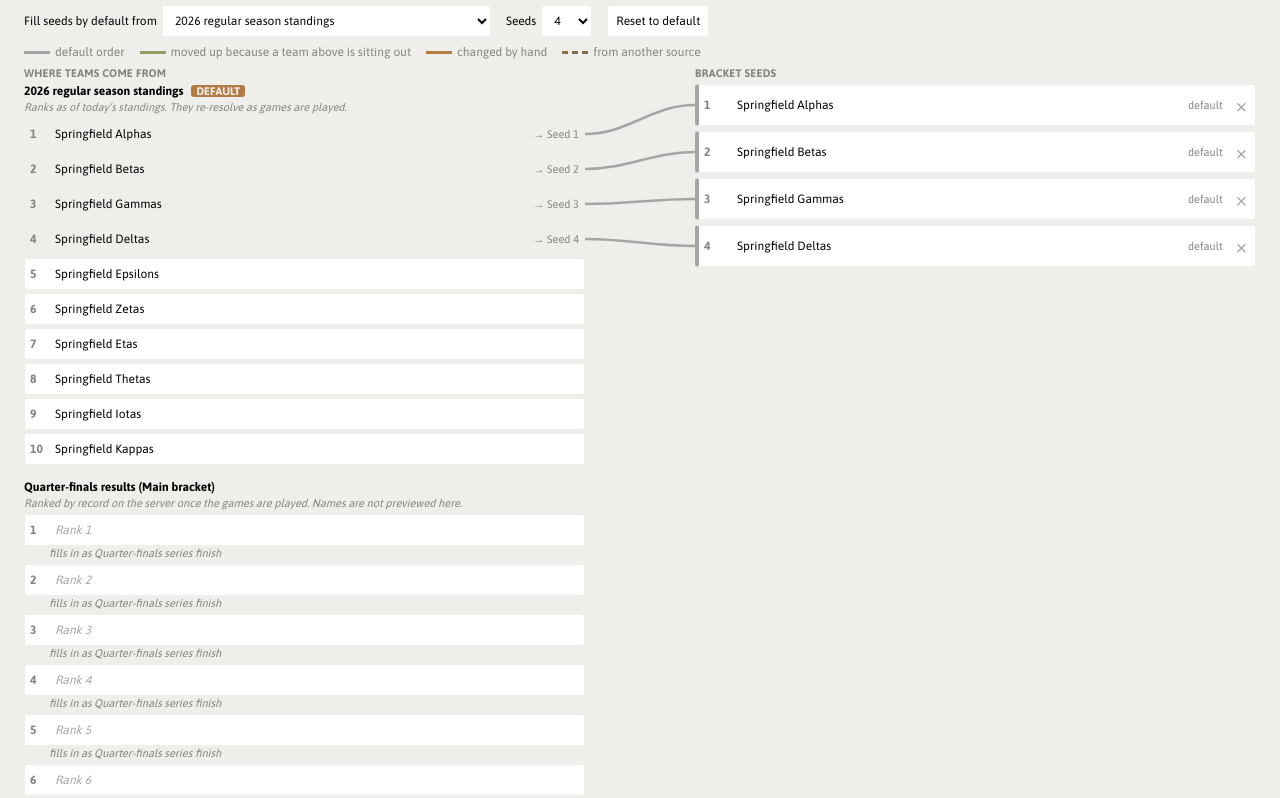
Test: TournamentSeedingBoard (bracket) › the seed count control appears for new brackets only and refills when grown
Check: the text "Springfield Alphas" below "2026 regular season standings" is shown, box 55,127 -> 151,141
Select "8" in the dropdown named "Number of seeds" at point(567, 21), box 541,5 -> 592,37
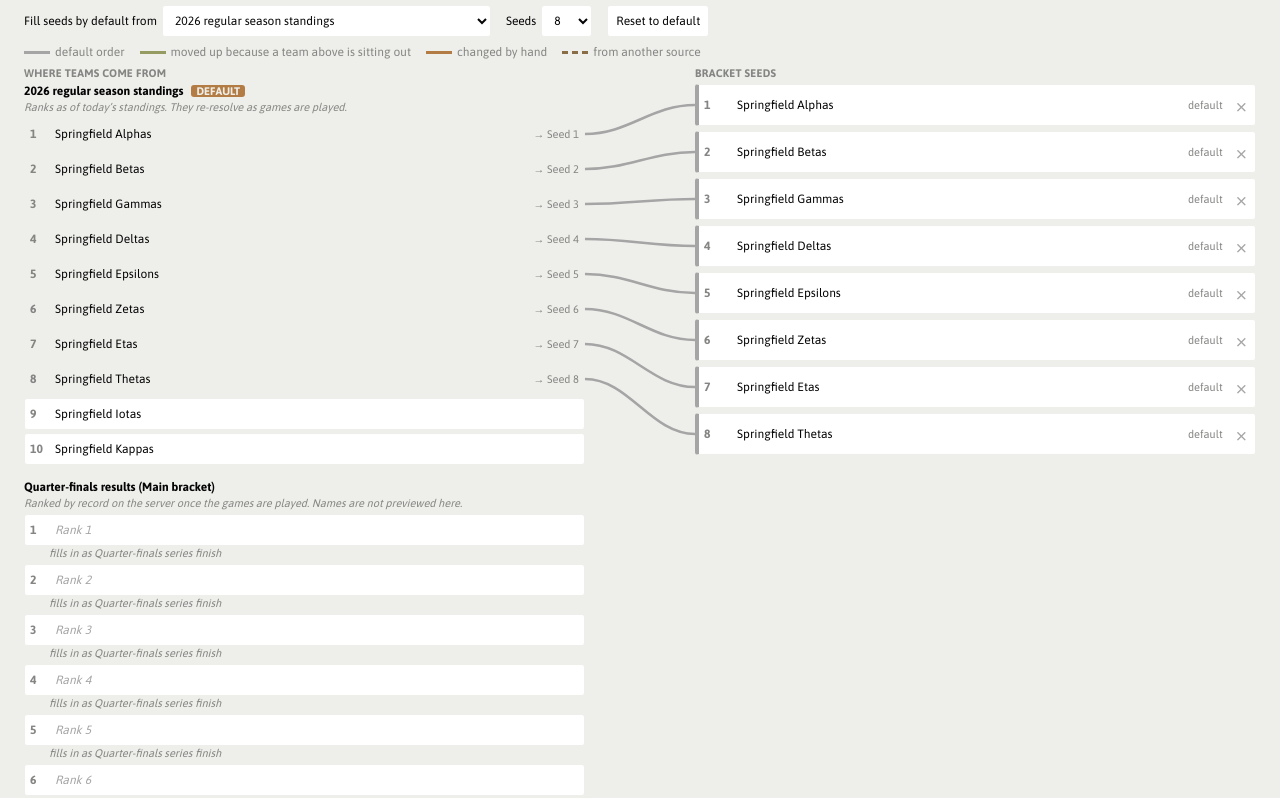
Check: the number of elements with class "seeding-slot" is 8
